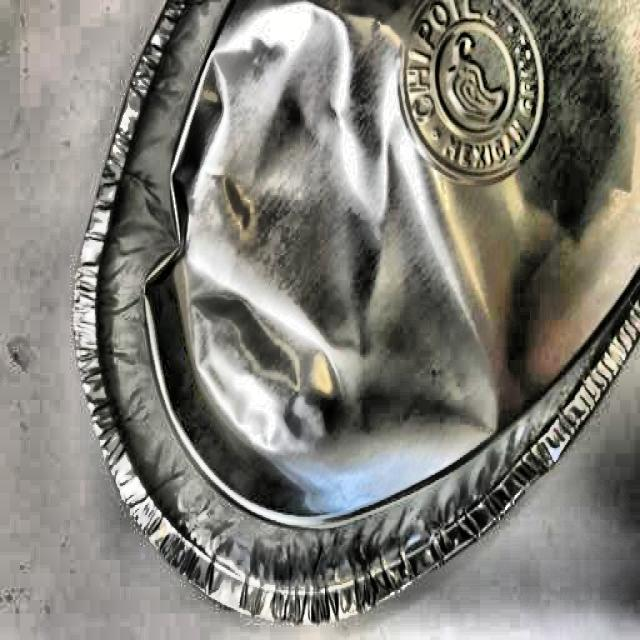metal: (65, 0, 640, 614)
